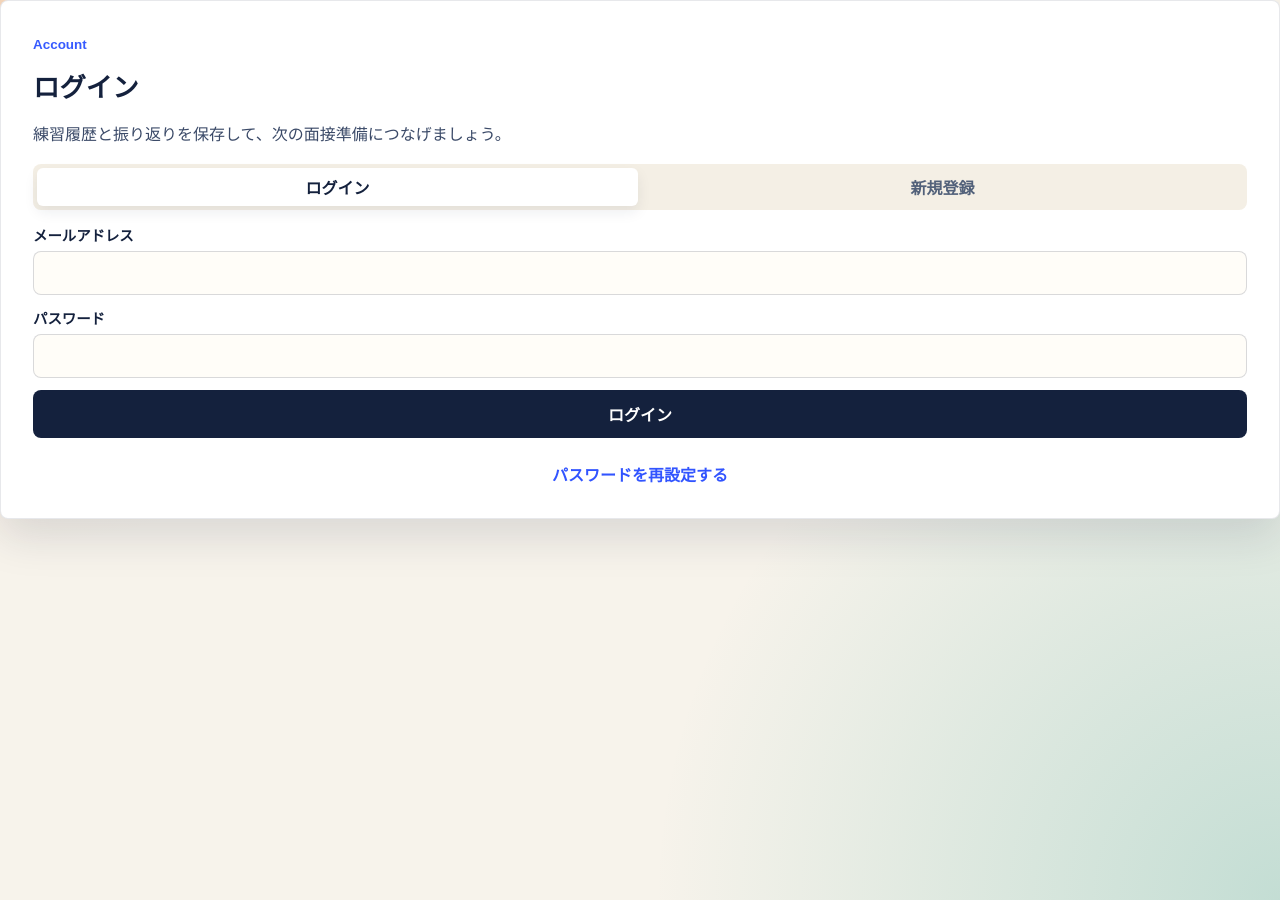
Test: LoginScreen › locks account tabs after starting email confirmation
Click the tab "新規登録".
click(942, 187)  # box [642,168,1243,206]
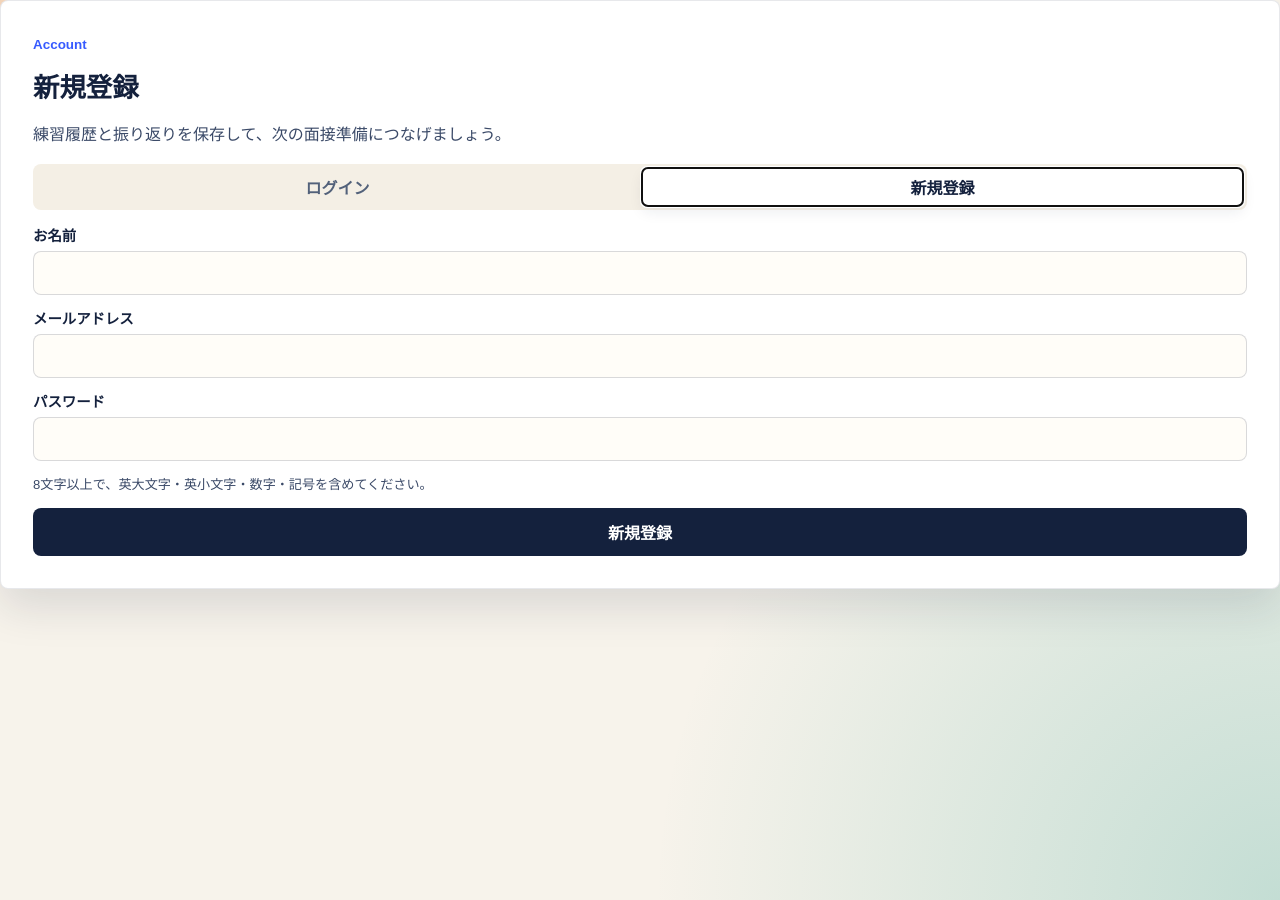
Type "山田太郎" into the field labelled "お名前".
click(640, 273); type("山田太郎")  # box [33,251,1247,295]
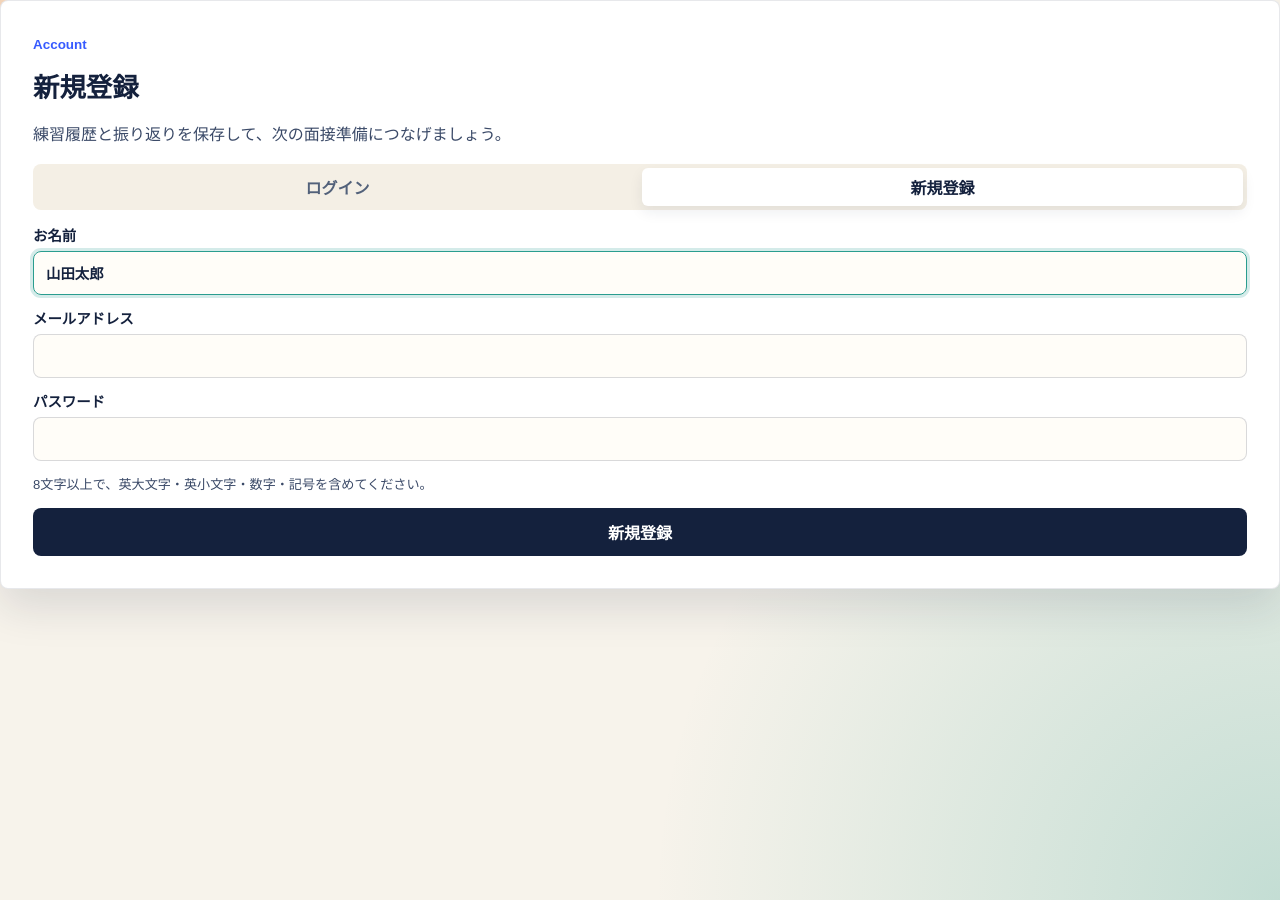
Type "user@example.com" into the field labelled "メールアドレス".
click(640, 356); type("user@example.com")  # box [33,334,1247,378]
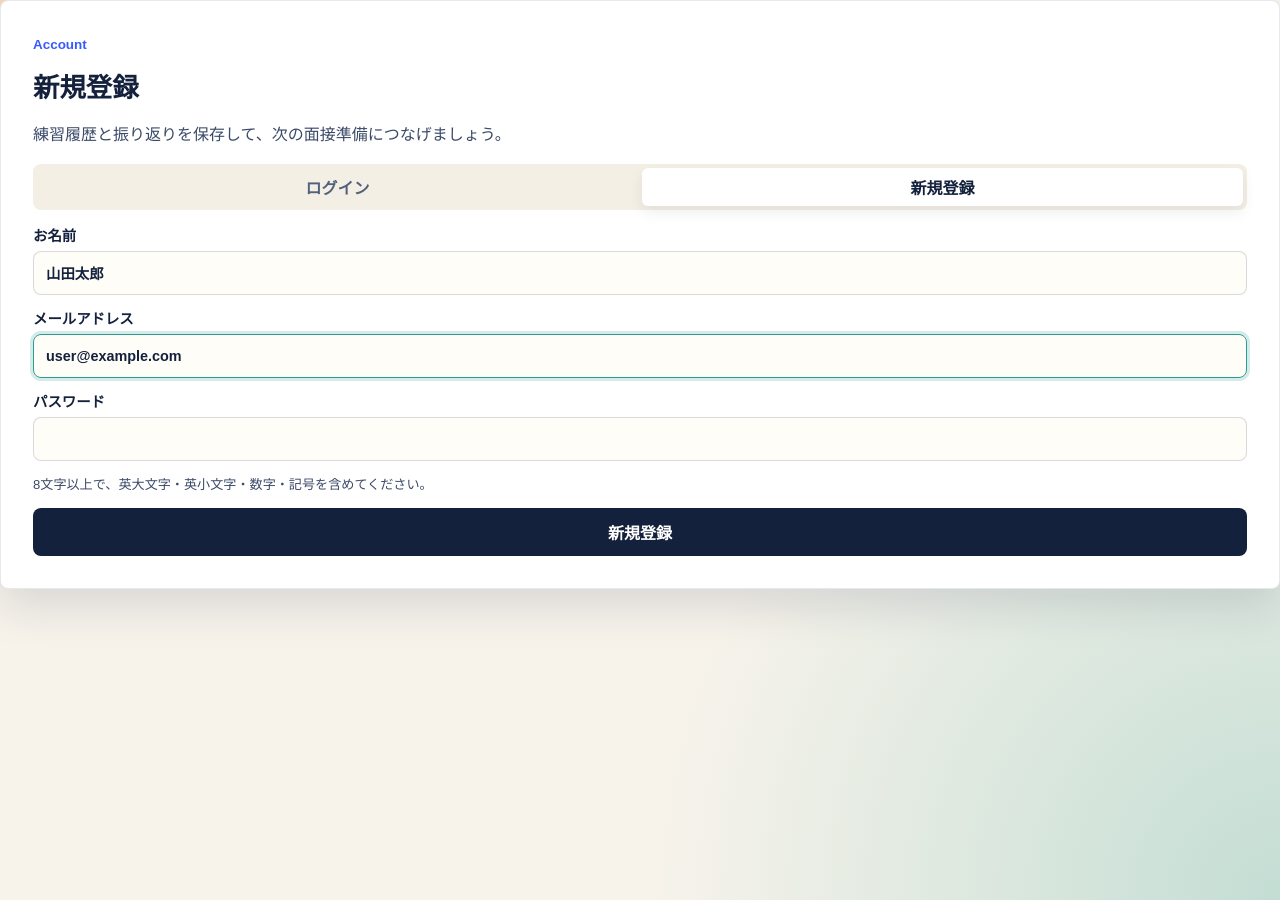
Type "Password1!" into the password field labelled "パスワード".
click(640, 439); type("Password1!")  # box [33,417,1247,461]
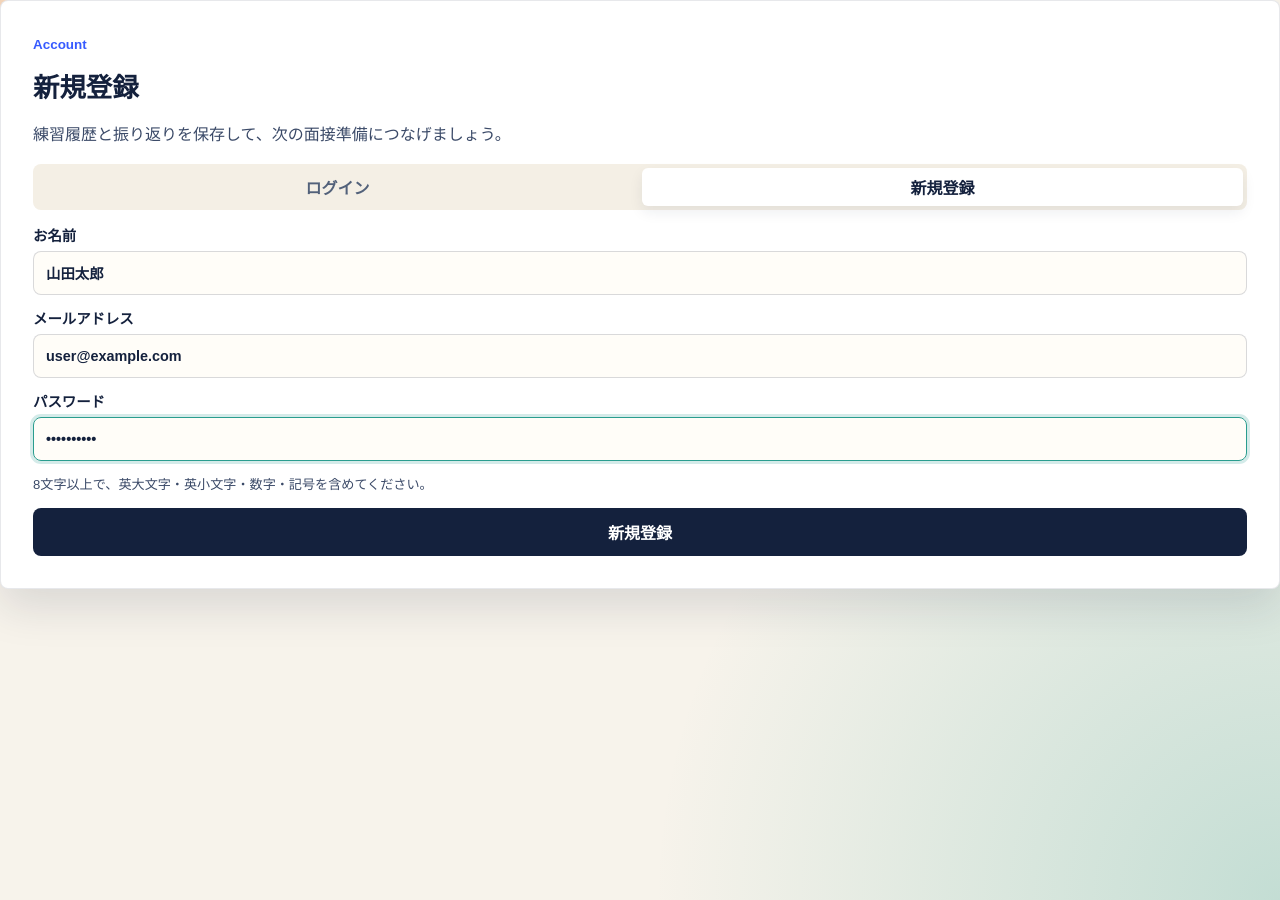
Click the button "新規登録".
click(640, 532)  # box [33,508,1247,556]
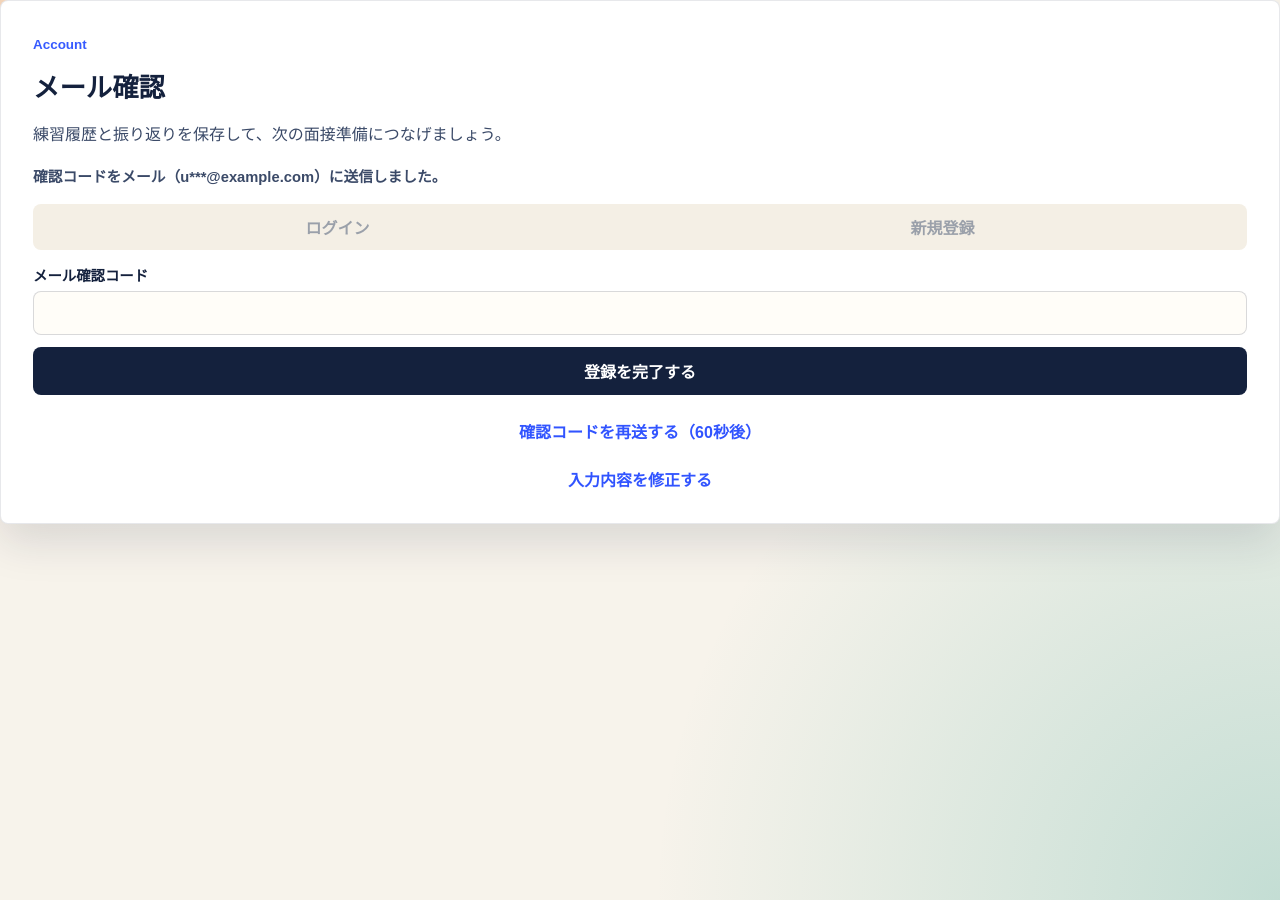
Expected: the heading "メール確認" is shown, [33,73,165,103]
Expected: the text "確認コードをメール（u***@example.com）に送信しました。" is shown, [33,169,446,185]
Expected: the tab "ログイン" is disabled, [37,208,638,246]
